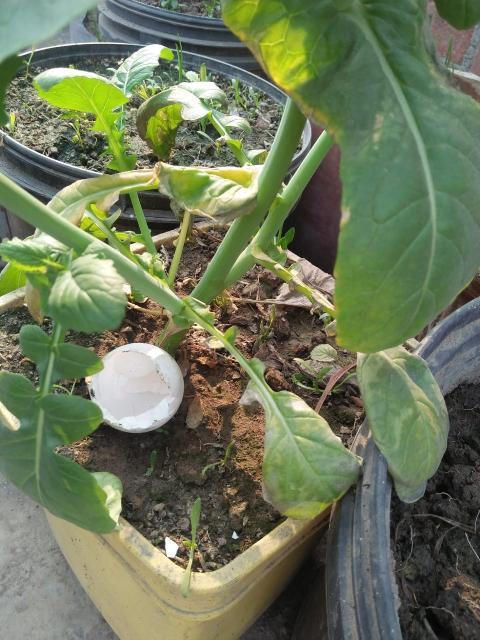Roto: (86, 341, 184, 432)
